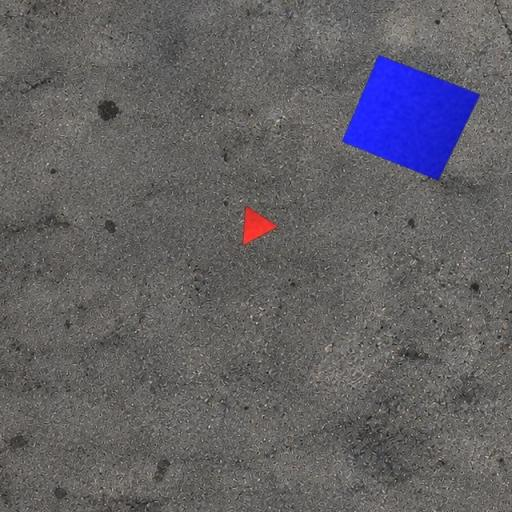BLUE_SQUARE: (340, 54, 482, 181)
